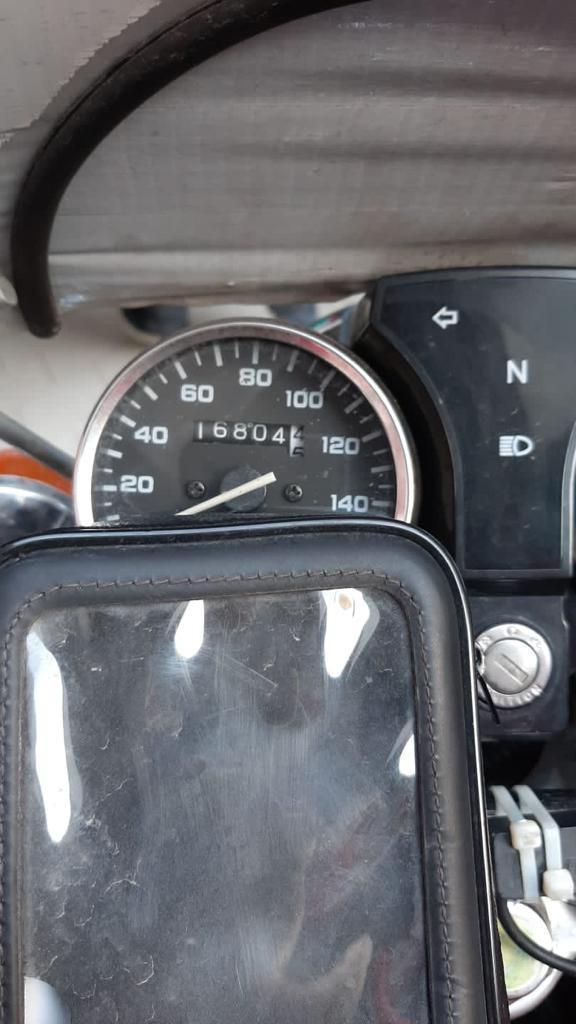0: (252, 423, 267, 441)
1: (198, 421, 203, 440)
4: (271, 425, 285, 444), (293, 425, 305, 442)
5: (291, 446, 305, 461)
6: (213, 420, 227, 438)
8: (233, 421, 247, 440)
odometer: (189, 417, 307, 459)
